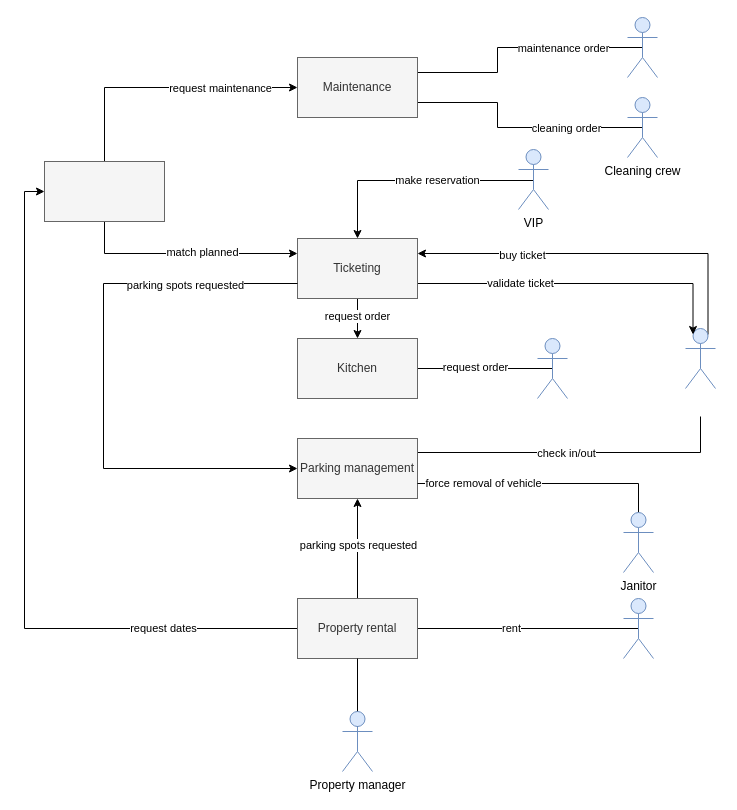
Some shapes in this 737 by 810 pixel diagram are drawn without their labels. Here are the shapes that lost their labels. From the top down, the centre of each, then its label:
the point at 642,47: Maintenance crews
the point at 104,191: Match management
the point at 552,368: Kitchen crew
the point at 700,358: Visitors
the point at 638,628: Tenants
